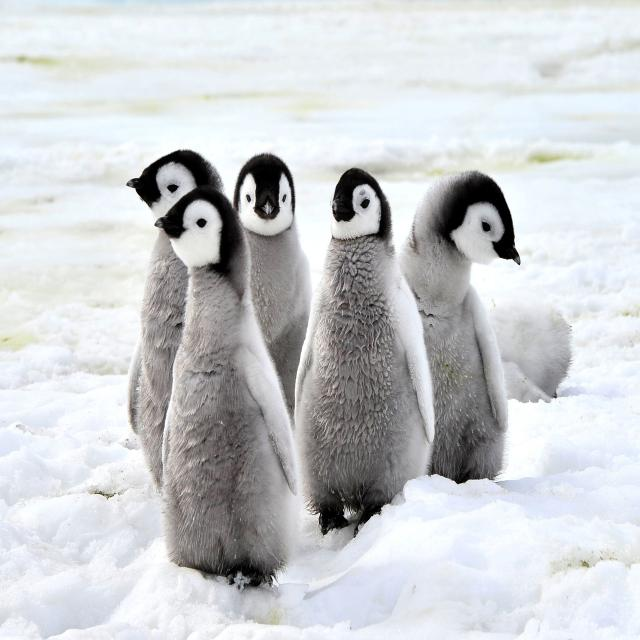penguin: (156, 185, 297, 581), (295, 168, 435, 534), (400, 171, 521, 483), (234, 153, 312, 426), (127, 149, 224, 228)
